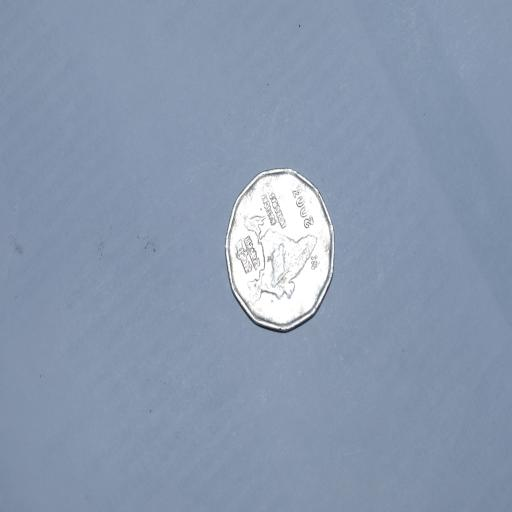rupee2: (219, 167, 334, 336)
